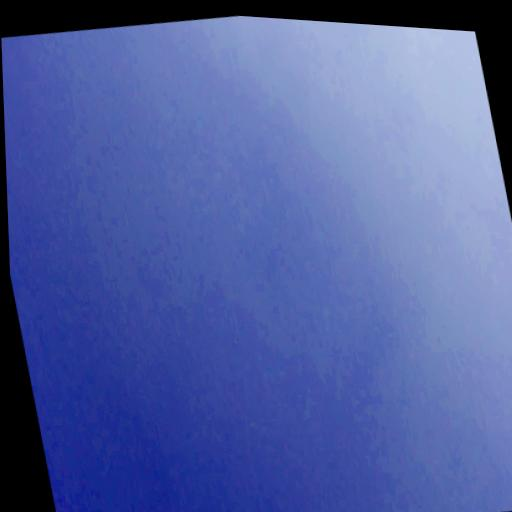drones: (234, 334, 241, 343)
